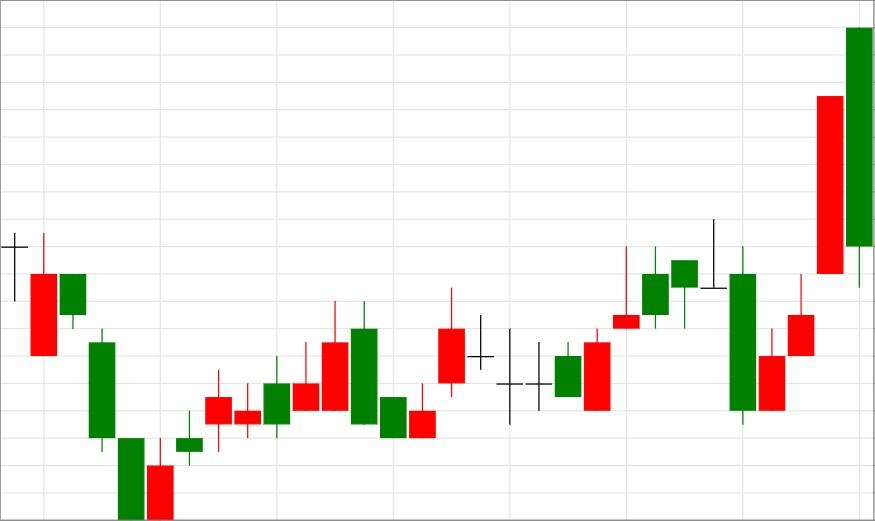bearish_engulfing_fall: (117, 300, 379, 520)
bullish_engulfing_rise: (437, 287, 612, 425)
three_white_soldiers_rise: (670, 95, 845, 425)
